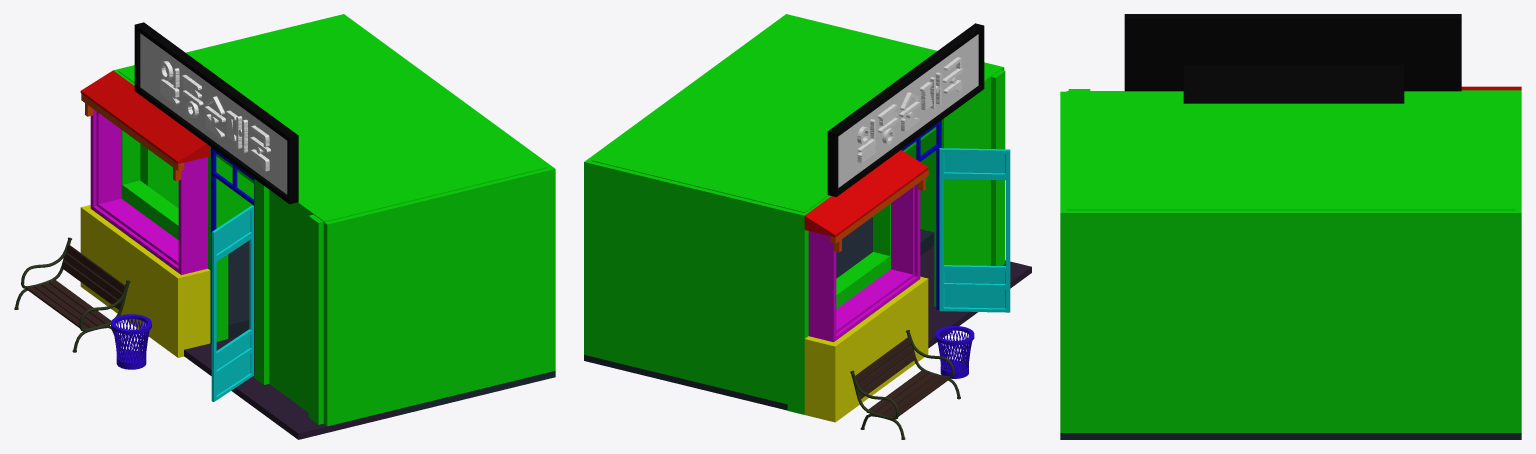
Rendered from Building_6_3.fbx.
3 views of the same model, side by side, from view 1: azimuth 30°, elevation 25°; view 2: azimuth 150°, elevation 25°; view 3: azimuth 270°, elevation 25° (orthographic). The views are drawn at different scales.
Parts seen in each view (by area): view 1: polySurface990, polySurface916, typeMesh30; view 2: polySurface990, polySurface916, typeMesh30; view 3: polySurface990, polySurface916.
Boxes of the visible parts, x1=… form: polySurface990: x1=14, y1=14, x2=555, y2=439; polySurface916: x1=134, y1=22, x2=298, y2=204; typeMesh30: x1=160, y1=61, x2=270, y2=171; polySurface990: x1=584, y1=14, x2=1031, y2=439; polySurface916: x1=827, y1=23, x2=984, y2=196; typeMesh30: x1=857, y1=57, x2=963, y2=162; polySurface990: x1=1060, y1=64, x2=1521, y2=439; polySurface916: x1=1124, y1=14, x2=1461, y2=91.
Bounding box in the file's own units: 172 × 138 × 190.
